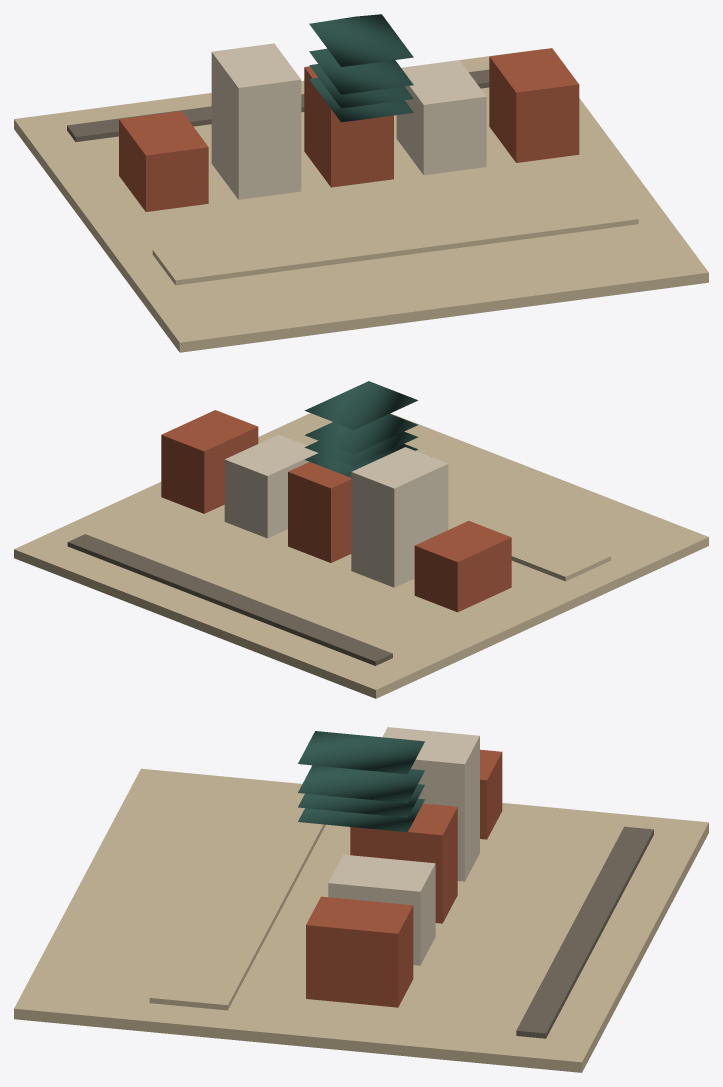
File: model-medium.glb
3 views of the same model, one above another, from view 1: azimuth 30°, elevation 25°; view 2: azimuth 150°, elevation 25°; view 3: azimuth 270°, elevation 25° (orthographic). The views are drawn at different scales.
Parts seen in each view (by area): view 1: context_site_plinth, street_public_axis, street_facade_1, street_facade_4, street_facade_3, street_facade_0, street_facade_2, street_roof_1, street_roof_2, front_scale_strip, street_roof_0, street_roof_3; view 2: context_site_plinth, street_facade_1, street_facade_0, street_facade_4, front_scale_strip, street_facade_3, street_facade_2, street_public_axis, street_roof_1, street_roof_2, street_roof_3, street_roof_0; view 3: context_site_plinth, street_public_axis, street_facade_4, front_scale_strip, street_facade_1, street_facade_3, street_facade_2, street_roof_1, street_roof_2, street_roof_0, street_roof_3, street_facade_0.
Boxes of the visible parts, <box> form: context_site_plinth: <box>14,49,708,352</box>; street_public_axis: <box>152,188,638,285</box>; street_facade_1: <box>211,43,301,199</box>; street_facade_4: <box>489,48,579,162</box>; street_facade_3: <box>396,60,486,175</box>; street_facade_0: <box>119,111,208,211</box>; street_facade_2: <box>304,66,393,187</box>; street_roof_1: <box>309,14,413,66</box>; street_roof_2: <box>309,48,413,94</box>; front_scale_strip: <box>67,69,489,141</box>; street_roof_0: <box>309,77,413,122</box>; street_roof_3: <box>309,64,413,108</box>; context_site_plinth: <box>14,413,708,698</box>; street_facade_1: <box>351,447,448,587</box>; street_facade_0: <box>414,521,511,612</box>; street_facade_4: <box>161,410,258,513</box>; front_scale_strip: <box>67,534,392,665</box>; street_facade_3: <box>224,434,318,538</box>; street_facade_2: <box>288,462,351,562</box>; street_public_axis: <box>285,433,611,581</box>; street_roof_1: <box>304,381,417,429</box>; street_roof_2: <box>304,413,417,454</box>; street_roof_3: <box>304,431,418,466</box>; street_roof_0: <box>305,444,417,477</box>; context_site_plinth: <box>14,768,708,1072</box>; street_public_axis: <box>149,788,325,1010</box>; street_facade_4: <box>306,896,413,1007</box>; front_scale_strip: <box>516,826,653,1038</box>; street_facade_1: <box>382,727,479,881</box>; street_facade_3: <box>328,854,435,965</box>; street_facade_2: <box>350,803,457,923</box>; street_roof_1: <box>298,731,424,774</box>; street_roof_2: <box>298,765,424,803</box>; street_roof_0: <box>298,798,424,832</box>; street_roof_3: <box>298,784,424,817</box>; street_facade_0: <box>480,749,502,839</box>.
Size of the model in its own units: 9.55 by 2.89 by 9.55.
